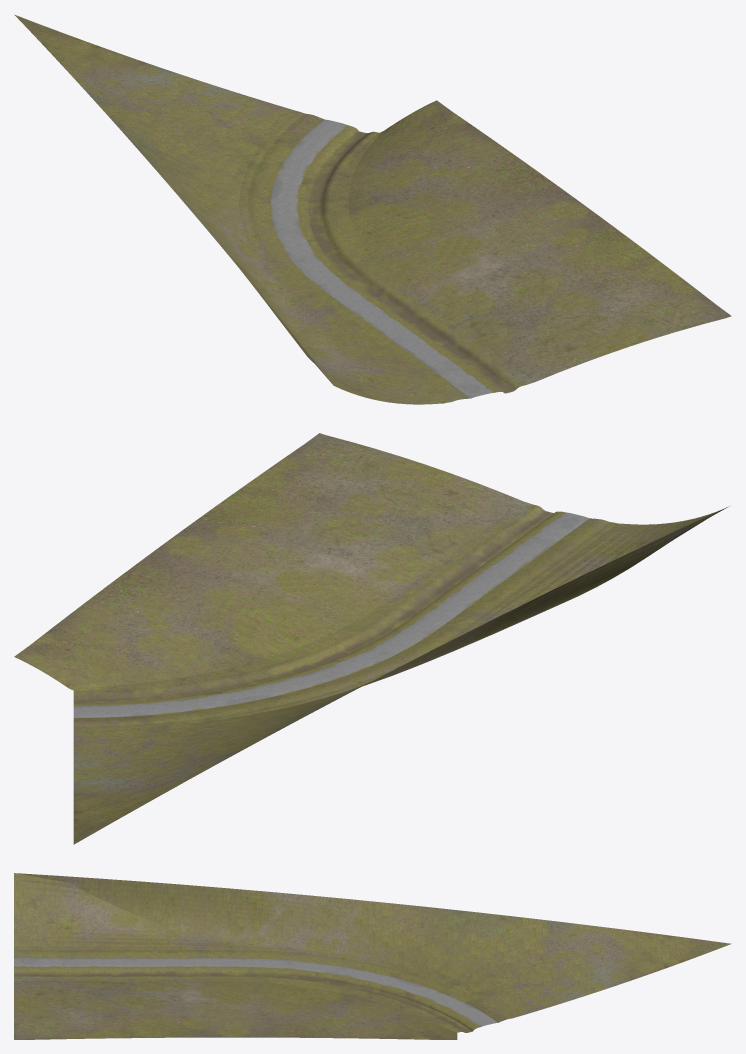
Rendered from Terrain.obj.
3 views of the same model, one above another, from view 1: azimuth 30°, elevation 25°; view 2: azimuth 150°, elevation 25°; view 3: azimuth 270°, elevation 25° (orthographic). The views are drawn at different scales.
Visible parts, largest first — view 1: group_1_ID13, group_2_ID20, group_0_ID4; view 2: group_1_ID13, group_2_ID20, group_0_ID4; view 3: group_2_ID20, group_1_ID13, group_0_ID4.
Part boxes in pixels (x1=…): group_1_ID13: x1=297, y1=100, x2=731, y2=393; group_2_ID20: x1=14, y1=14, x2=470, y2=404; group_0_ID4: x1=270, y1=119, x2=494, y2=398; group_1_ID13: x1=14, y1=433, x2=564, y2=705; group_2_ID20: x1=73, y1=506, x2=729, y2=844; group_0_ID4: x1=73, y1=512, x2=589, y2=717; group_2_ID20: x1=14, y1=873, x2=731, y2=1022; group_1_ID13: x1=14, y1=967, x2=480, y2=1039; group_0_ID4: x1=14, y1=958, x2=497, y2=1026.
Bounding box in the file's own units: 82.04 × 10.32 × 170.
1 material, 1 textured.
